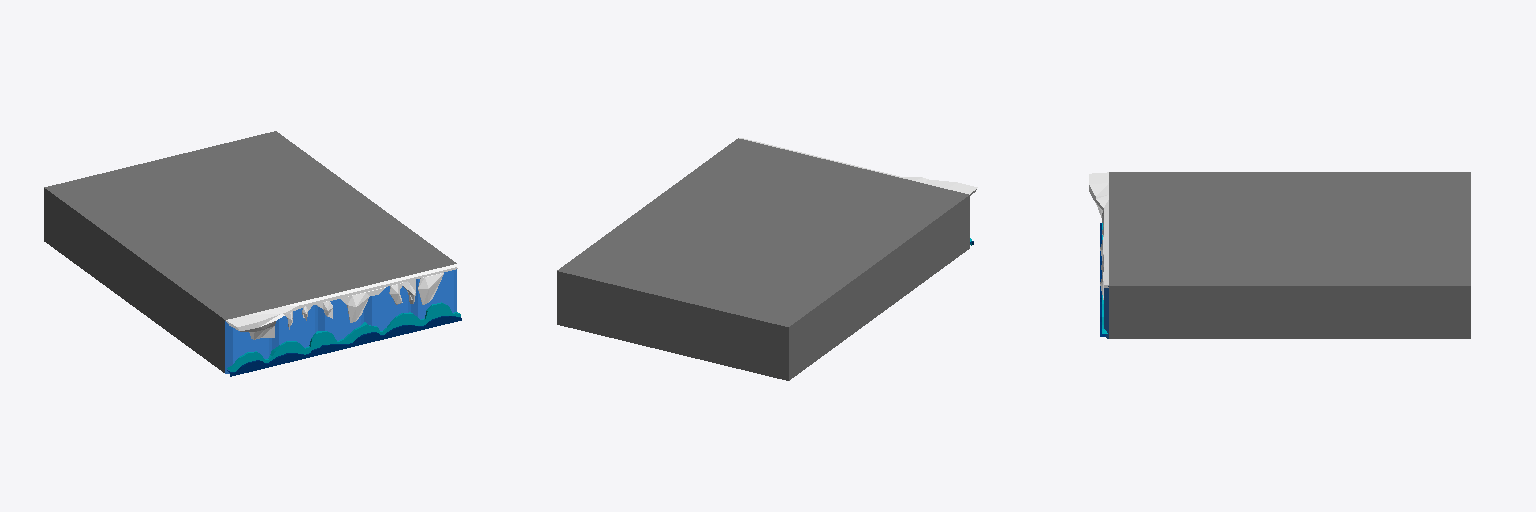
Rendered from icy_platform 1.obj.
The picture shows the model from 3 angles: view 1: azimuth 30°, elevation 25°; view 2: azimuth 150°, elevation 25°; view 3: azimuth 270°, elevation 25°; orthographic projection.
Visible parts, largest first — view 1: pCube16; view 2: pCube16; view 3: pCube16.
Boxes of the visible parts, x1,y1,x2,y2 form: pCube16: [44, 131, 461, 376]; pCube16: [557, 138, 977, 380]; pCube16: [1089, 172, 1470, 338].
Size of the model in its own units: 6.47 by 1.43 by 9.22.